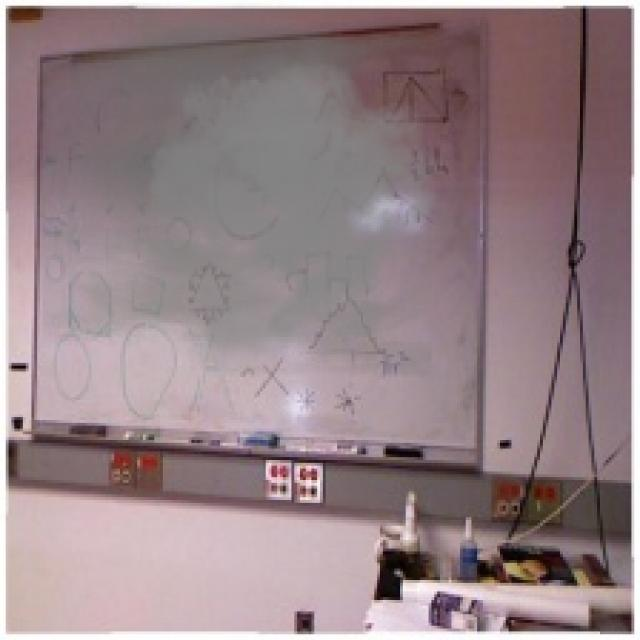smoke: (43, 3, 446, 377)
